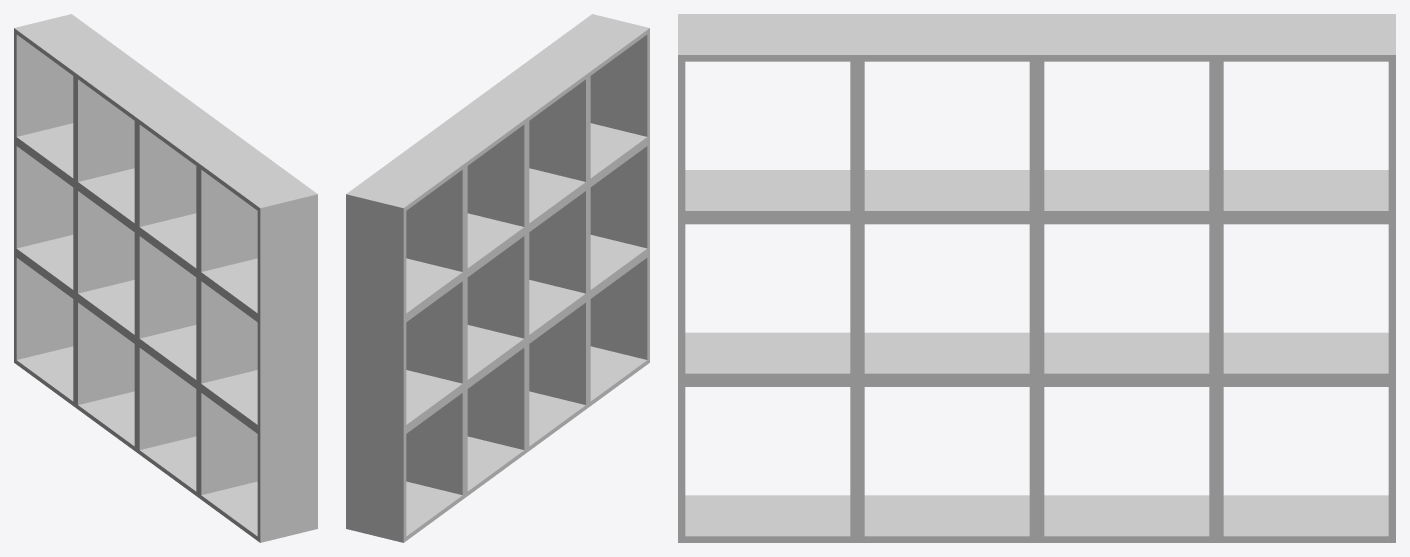
The model's file is Bookcase11.fbx.
3 renders of one model, left to right at view 1: azimuth 30°, elevation 25°; view 2: azimuth 150°, elevation 25°; view 3: azimuth 270°, elevation 25°, orthographic. The views are drawn at different scales.
Parts seen in each view (by area): view 1: Bookcase11; view 2: Bookcase11; view 3: Bookcase11.
Boxes of the visible parts, bbox=[...] form: Bookcase11: bbox=[14, 14, 317, 542]; Bookcase11: bbox=[346, 14, 649, 542]; Bookcase11: bbox=[678, 14, 1395, 542].
Size of the model in its own units: 0.2703 by 2 by 1.5.
